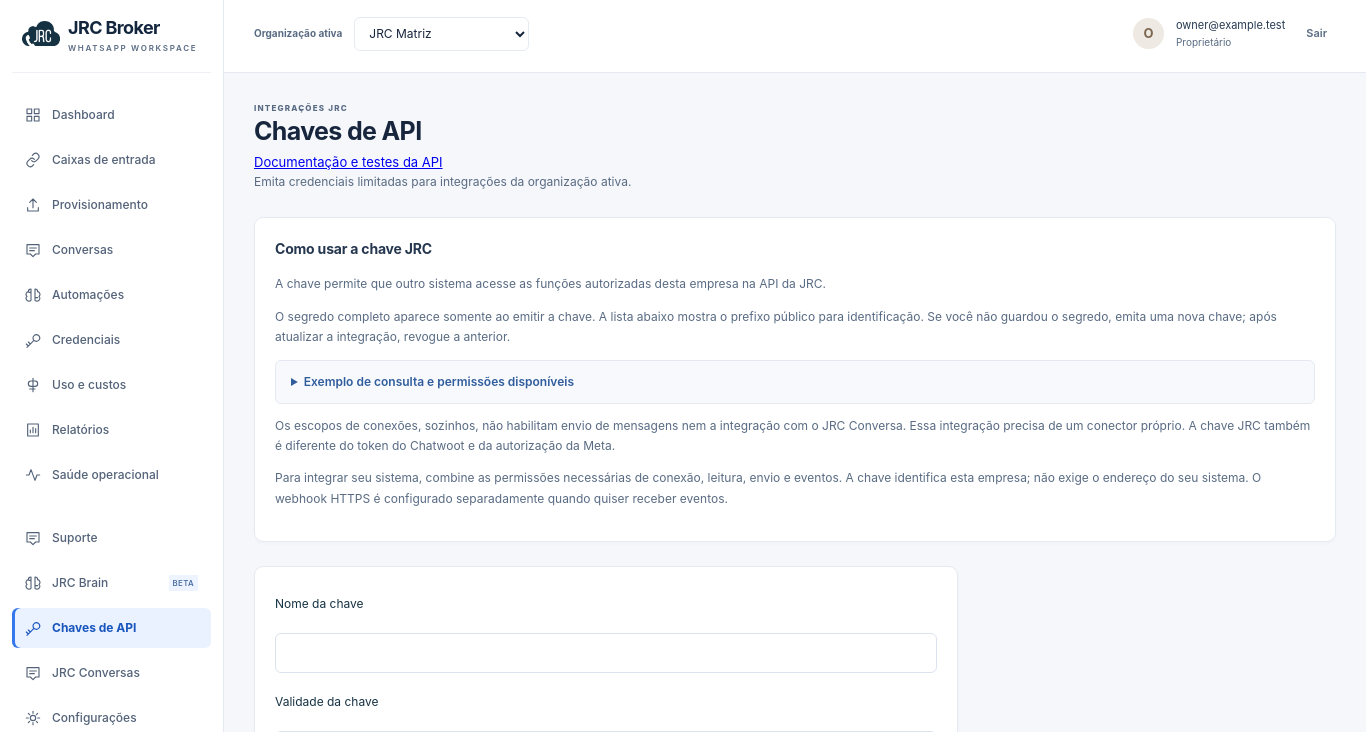
Scenario: ApiKeysPage › preserva orientação e request ID quando a resposta de emissão pode ter sido perdida
Type "Automação" into the field labelled "Nome da chave". click: {"x": 606, "y": 653}
box: [275,633,937,673]
(page scrolled)
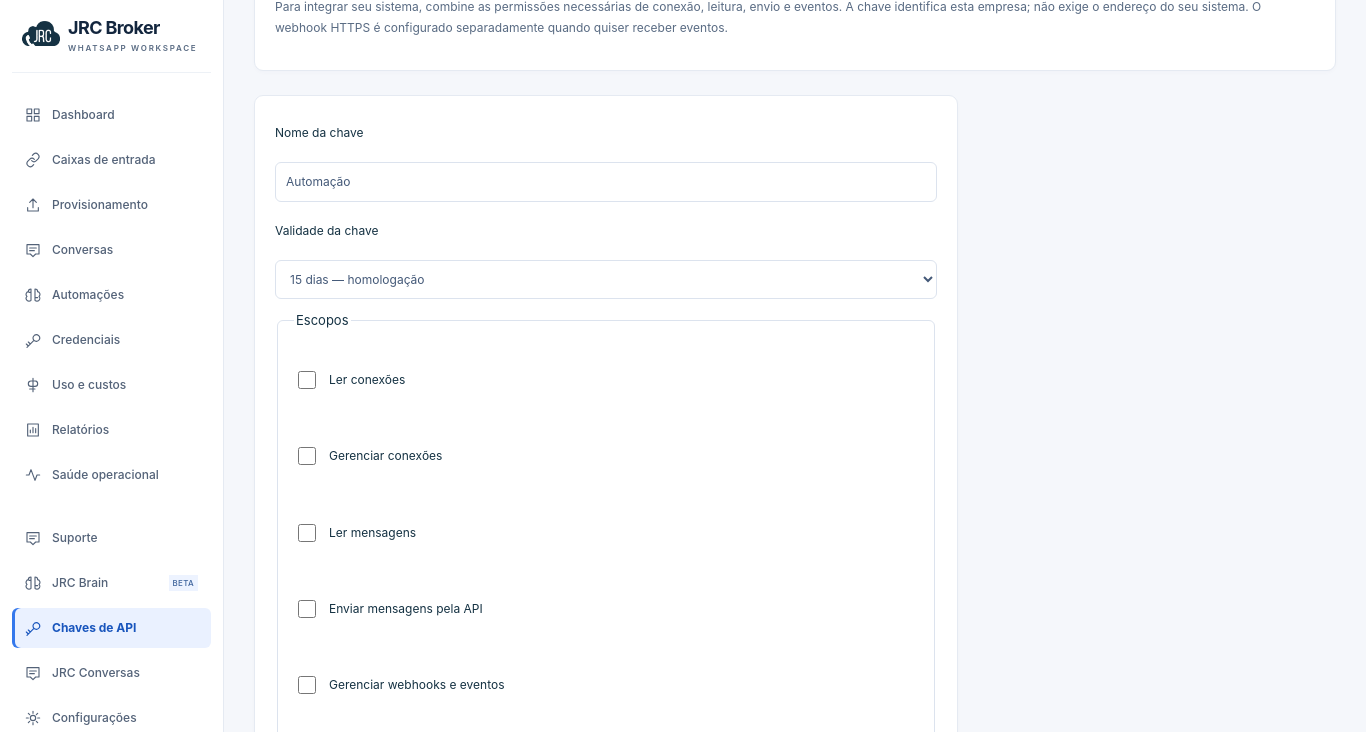
Click the checkbox labelled "Ler conexões". click: {"x": 307, "y": 380}
box: [298,358,316,402]
(page scrolled)
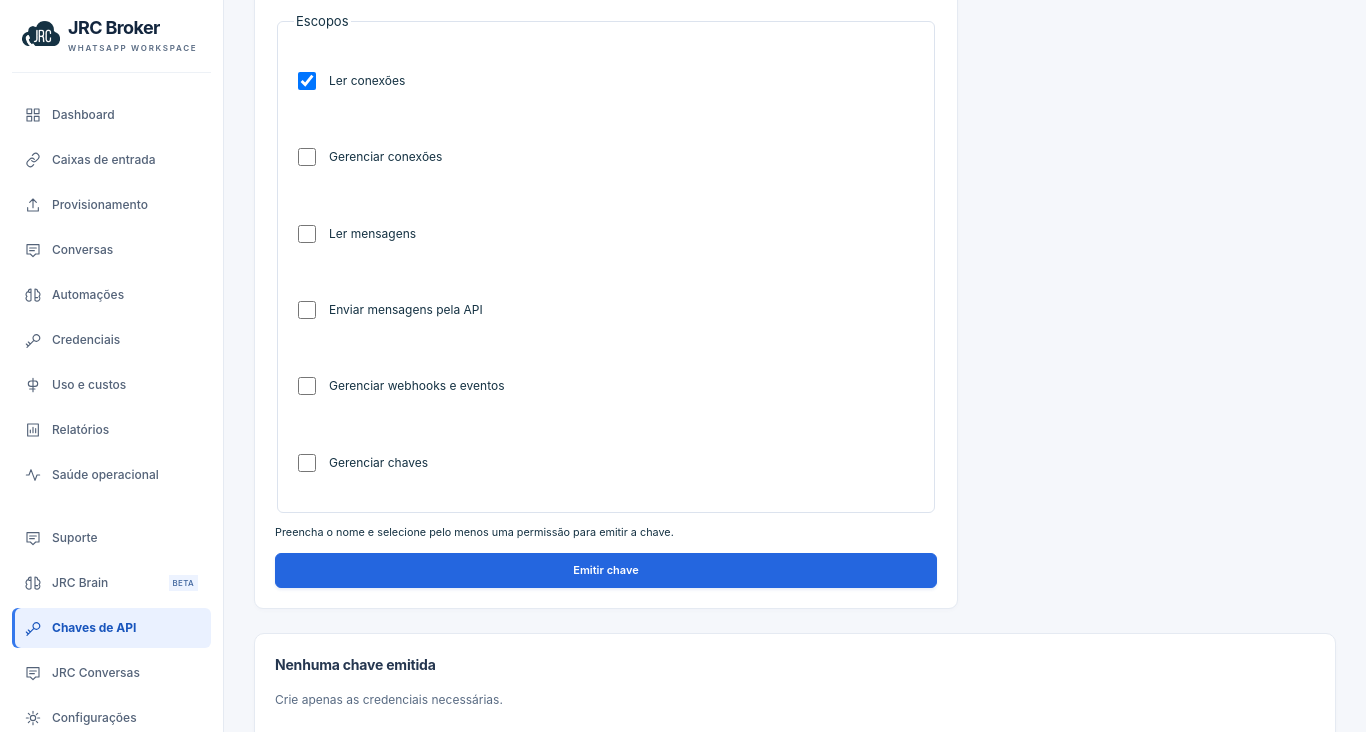
Click the button "Emitir chave". click: {"x": 606, "y": 570}
box: [275,553,937,588]
(page scrolled)
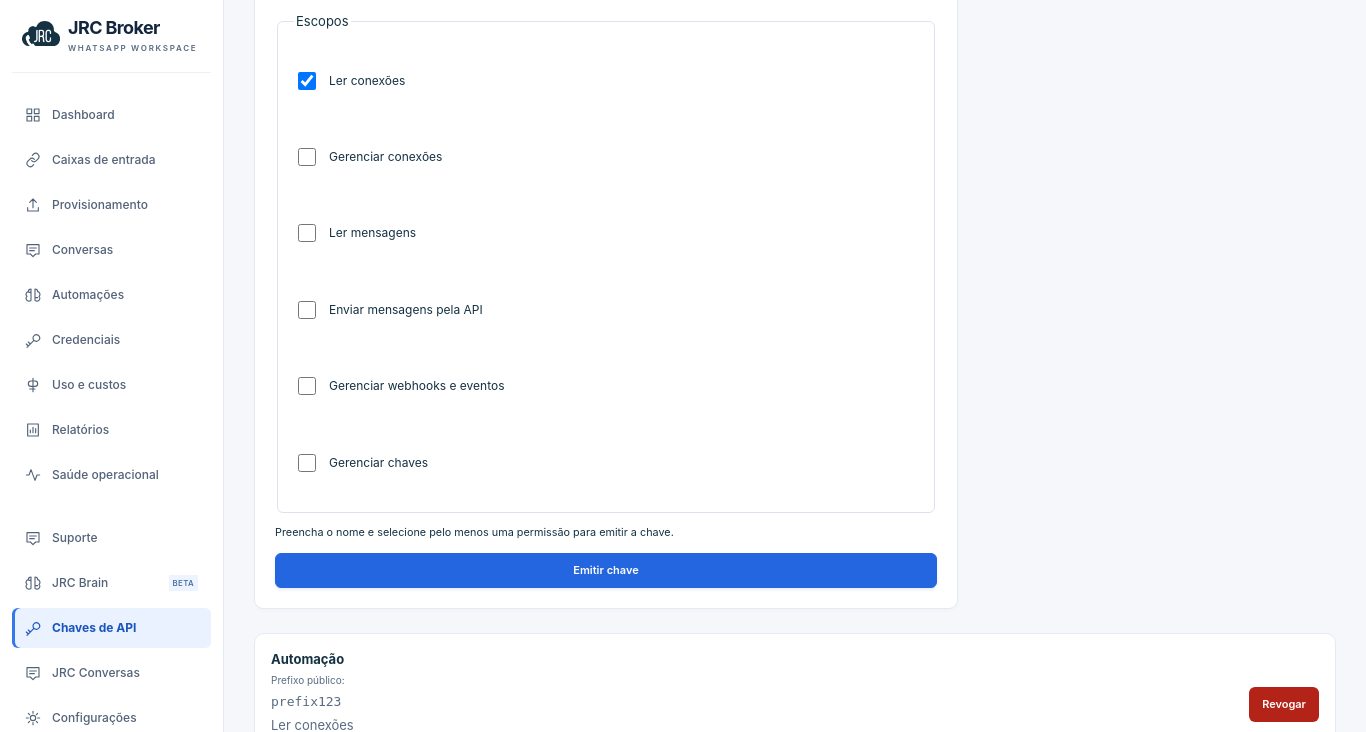
Result: the text "Automação" is shown at [271,650,354,669]
